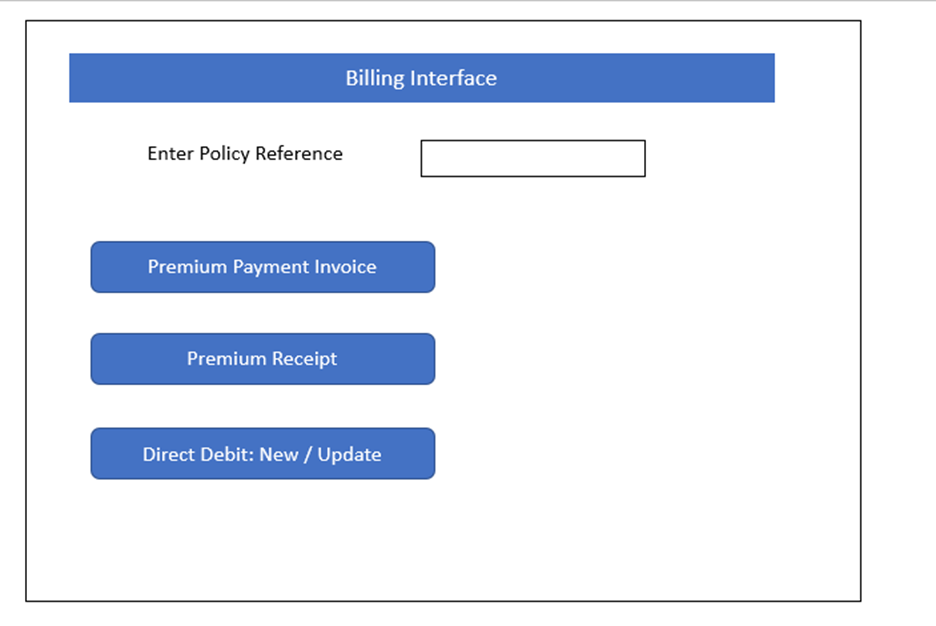button: (78, 231, 443, 301), (85, 419, 444, 488), (87, 328, 444, 390)
